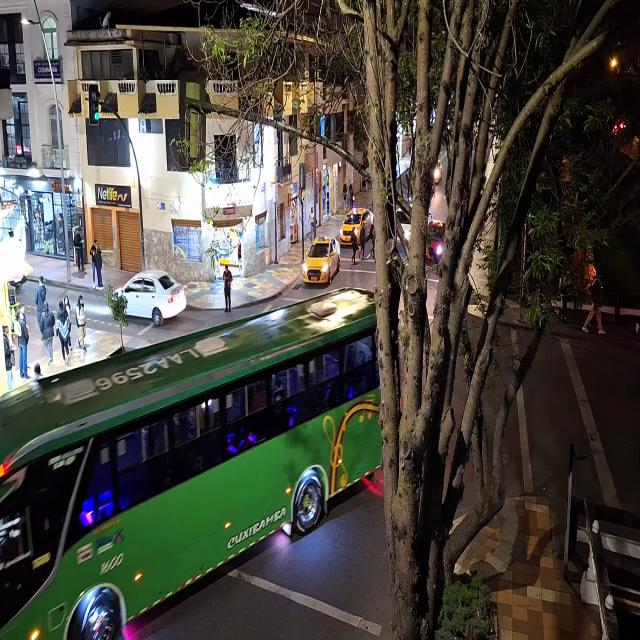BUS: (0, 314, 390, 640)
SED: (116, 271, 185, 323), (306, 237, 331, 284), (346, 209, 369, 250)
